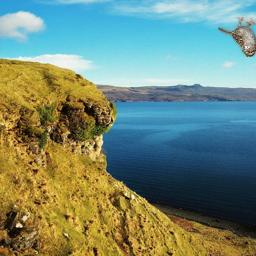Sparrow: (218, 17, 256, 57)
